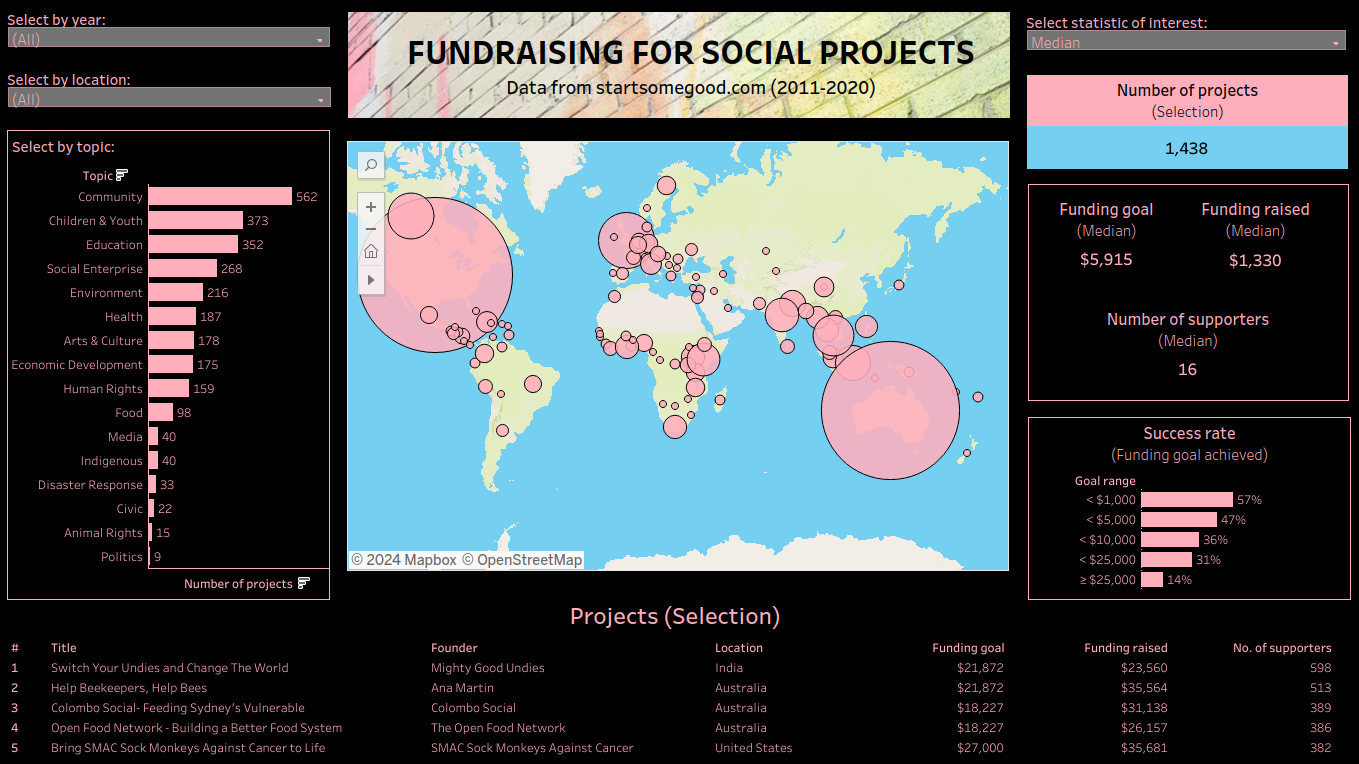

What the dashboard file says about the page in this screenshot:
{"tool":"tableau","page":{"name":"DASHBOARD","canvas":[1366,768],"ordinal":0},"visuals":[{"type":"image","param":"D:/ANALYTICS/Jupyter Notebook/Jupyter Notebook Files/IRONHACK/FULL_COURSE/GitHub","box":[8,8,1008,752]},{"type":"filter","title":"Project details","param":"[federated.031ert70n4gx5m1g20wpb0zbjttq].[yr:year:ok]","box":[10,9,324,57]},{"type":"parameter","param":"[Parameters].[Parameter 1]","box":[1029,12,321,54]},{"type":"image","param":"D:/ANALYTICS/Jupyter Notebook/Jupyter Notebook Files/IRONHACK/FULL_COURSE/GitHub","box":[351,13,662,106]},{"type":"title","box":[31,28,1326,73]},{"type":"filter","title":"Project details","param":"[federated.031ert70n4gx5m1g20wpb0zbjttq].[none:location:nk]","box":[10,69,325,63]},{"type":"worksheet","title":"No. of projects","mark":"Automatic","box":[1030,76,321,94]},{"type":"worksheet","title":"Topics","mark":"Automatic","rows":["topic"],"cols":["Calculation_130322937333469191"],"box":[10,131,323,470]},{"type":"worksheet","title":"World map funding raised w/o US, AUS","mark":"Automatic","box":[345,137,672,440]},{"type":"blank","box":[1031,185,321,217]},{"type":"worksheet","title":"Funding goal","mark":"Automatic","box":[1033,195,153,78]},{"type":"worksheet","title":"Funding raised","mark":"Automatic","box":[1179,195,159,80]},{"type":"worksheet","title":"No.  of supporters","mark":"Automatic","box":[1047,305,288,79]},{"type":"worksheet","title":"Succes rate (achieved funding goal)","mark":"Automatic","rows":["Calculation_130322937301807107"],"cols":["Calculation_130322937333915656"],"box":[1031,418,323,183]},{"type":"worksheet","title":"Project details","mark":"Automatic","rows":["Calculation_754071485376724996","title","founder","location"],"box":[8,596,1349,165]}]}

Visuals, with their boxes in screenshot pixels (x1, y1, x2, y2), scaled from the page's 1366x768 canvas onto the 1359x764 screenshot:
image: [8,8,1011,756]
"Project details" filter: [10,9,332,66]
parameter: [1024,12,1343,66]
image: [349,13,1008,118]
title: [31,28,1350,100]
"Project details" filter: [10,69,333,131]
"No. of projects" worksheet: [1025,76,1344,169]
"Topics" worksheet: [10,130,331,598]
"World map funding raised w/o US, AUS" worksheet: [343,136,1012,574]
blank: [1026,184,1345,400]
"Funding goal" worksheet: [1028,194,1180,272]
"Funding raised" worksheet: [1173,194,1331,274]
"No.  of supporters" worksheet: [1042,303,1328,382]
"Succes rate (achieved funding goal)" worksheet: [1026,416,1347,598]
"Project details" worksheet: [8,593,1350,757]
